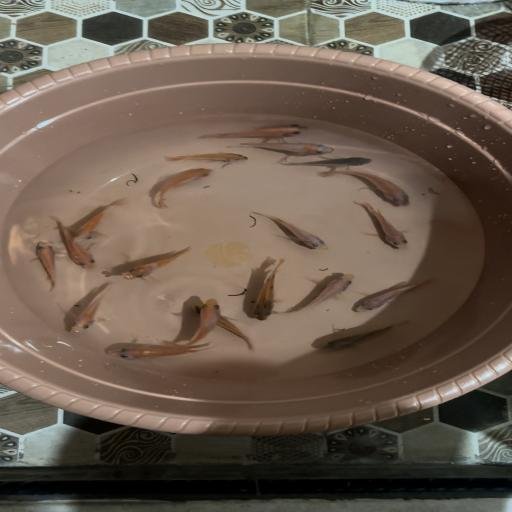nila: (276, 270, 358, 319), (322, 170, 417, 212), (246, 209, 336, 253), (349, 273, 439, 316), (55, 196, 132, 246), (348, 202, 416, 254), (316, 318, 412, 353), (161, 295, 223, 349), (56, 282, 118, 336), (191, 304, 260, 351), (145, 166, 218, 210), (116, 244, 196, 284), (244, 258, 293, 323), (42, 216, 98, 272), (194, 118, 314, 142), (93, 340, 218, 363), (225, 140, 336, 161), (25, 241, 65, 293), (161, 149, 250, 170), (280, 154, 376, 171)
